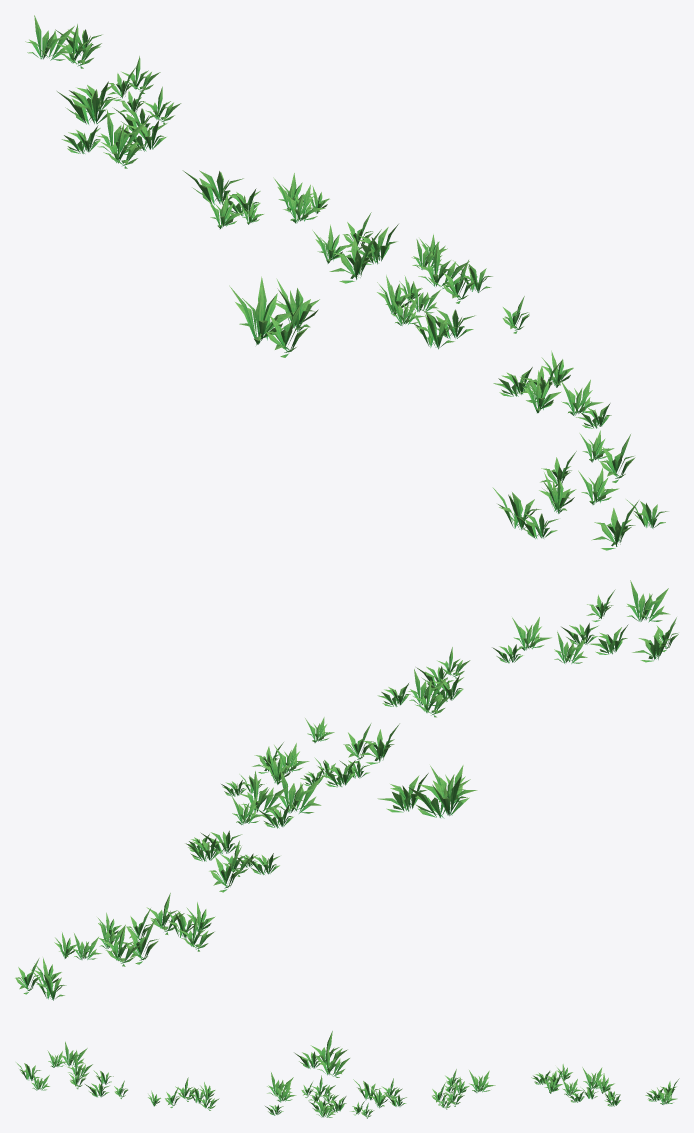
Rendered from area_07_11.fbx.
The picture shows the model from 3 angles, top to bottom: view 1: azimuth 30°, elevation 25°; view 2: azimuth 150°, elevation 25°; view 3: azimuth 270°, elevation 25°; orthographic projection. The views are drawn at different scales.
Visible parts, largest first — view 1: area_07_11; view 2: area_07_11; view 3: area_07_11.
Boxes of the visible parts, x1,y1,x2,y2 form: area_07_11: (25,15,668,550); area_07_11: (15,580,678,1000); area_07_11: (16,1031,679,1118).
Size of the model in its own units: 7.24 by 1.64 by 32.93.
